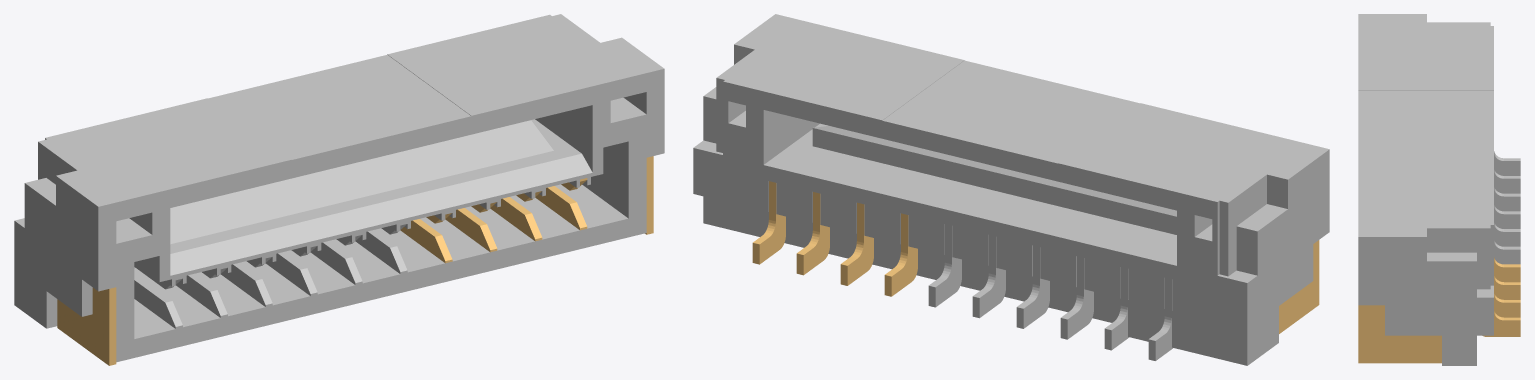
The model's file is SM10B-GHS-TB.obj.
3 renders of one model, left to right at view 1: azimuth 30°, elevation 25°; view 2: azimuth 150°, elevation 25°; view 3: azimuth 270°, elevation 25°, orthographic. The views are drawn at different scales.
Parts seen in each view (by area): view 1: SM10B-GHS-TB; view 2: SM10B-GHS-TB; view 3: SM10B-GHS-TB.
Boxes of the visible parts, x1,y1,x2,y2 form: SM10B-GHS-TB: [14, 14, 664, 365]; SM10B-GHS-TB: [693, 14, 1329, 365]; SM10B-GHS-TB: [1358, 14, 1520, 365].
Size of the model in its own units: 0.0112 by 0.00306 by 0.00345.
